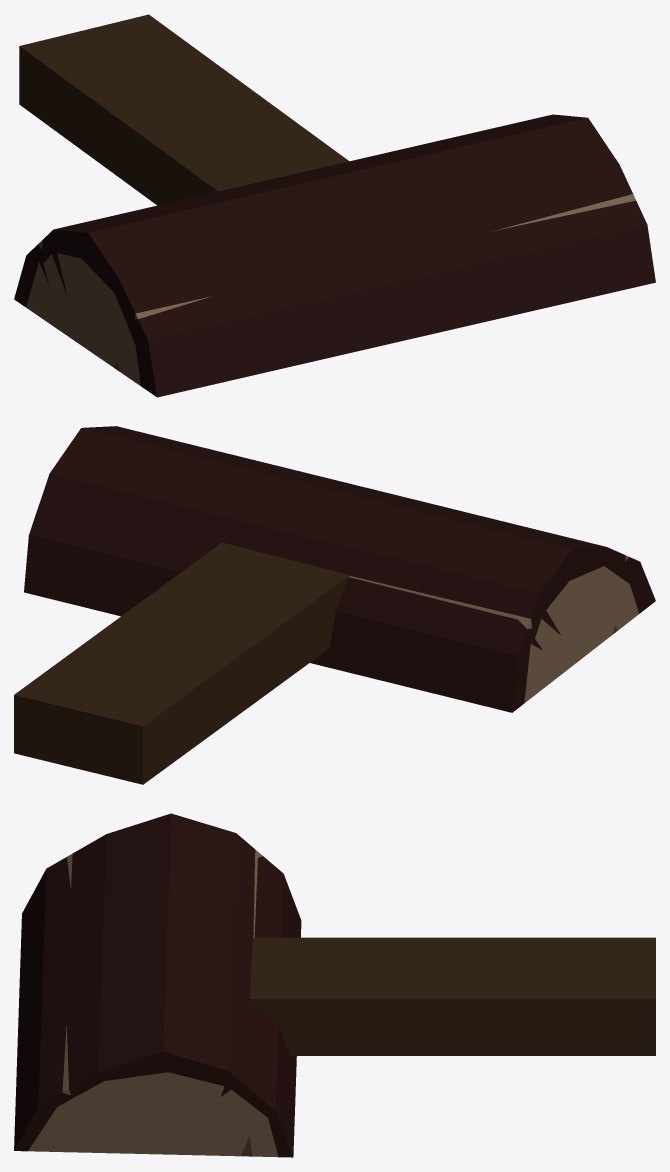
The model's file is board mode sign.fbx.
3 renders of one model, top to bottom at view 1: azimuth 30°, elevation 25°; view 2: azimuth 150°, elevation 25°; view 3: azimuth 270°, elevation 25°, orthographic. The views are drawn at different scales.
Visible parts, largest first — view 1: Cylinder017; view 2: Cylinder017; view 3: Cylinder017.
Part boxes in pixels (left/top/right/bottom): Cylinder017: left=14, top=14, right=655, bottom=397; Cylinder017: left=14, top=426, right=655, bottom=784; Cylinder017: left=14, top=813, right=655, bottom=1157.
Size of the model in its own units: 27.57 by 31.31 by 6.09.
